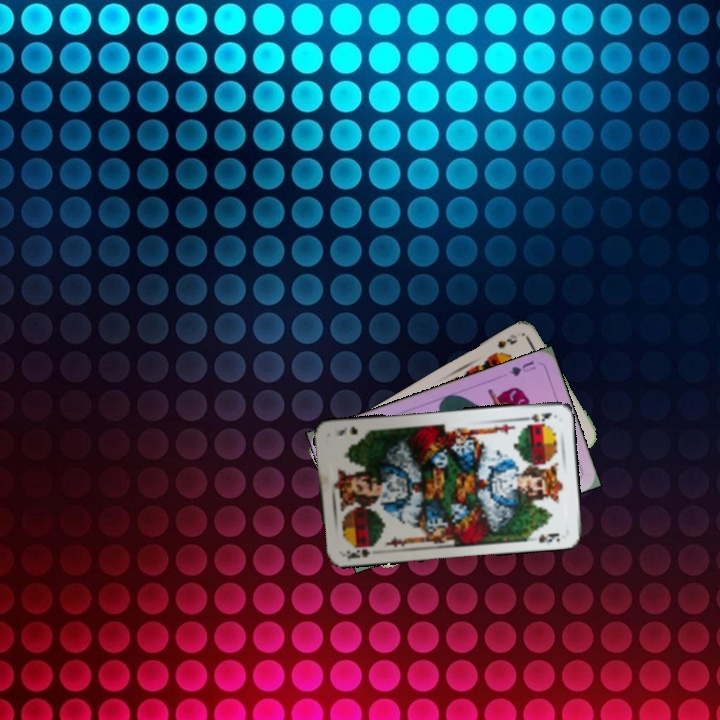GU: (505, 357, 538, 379)
S9: (487, 330, 520, 360)
SK: (342, 540, 378, 562), (516, 408, 554, 424)
